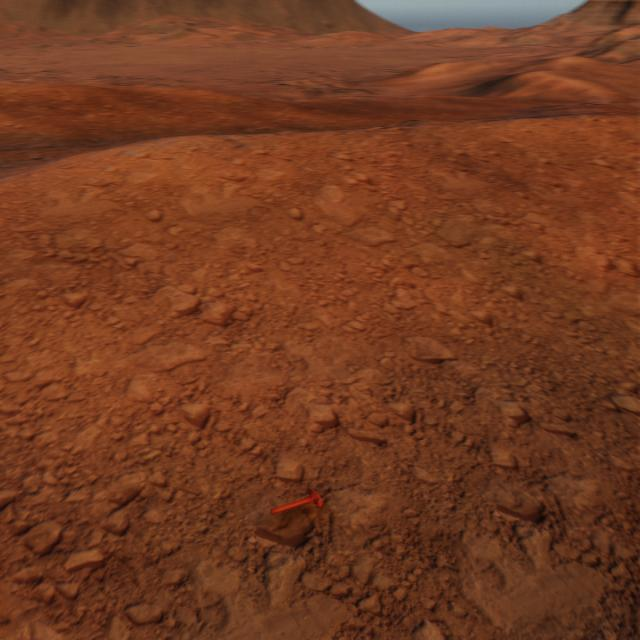newhammer: (270, 488, 322, 515)
